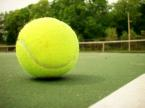tennis ball: (14, 16, 81, 79)
